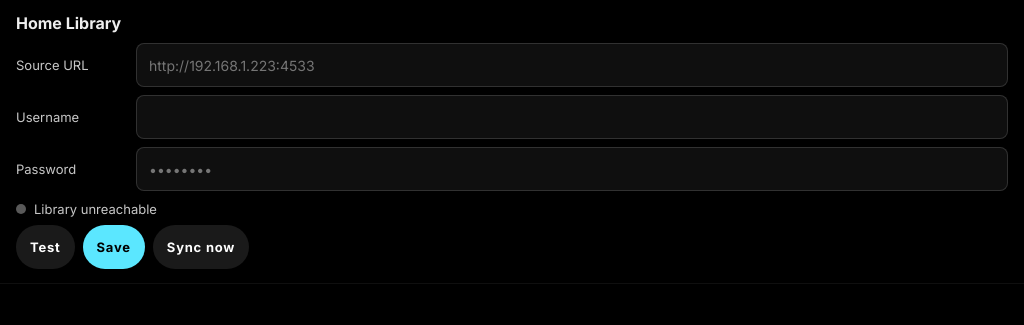
it: LibraryPanel › Test button surfaces backend error
Click the button "Test": (45, 247) x1=16 y1=225 x2=75 y2=269
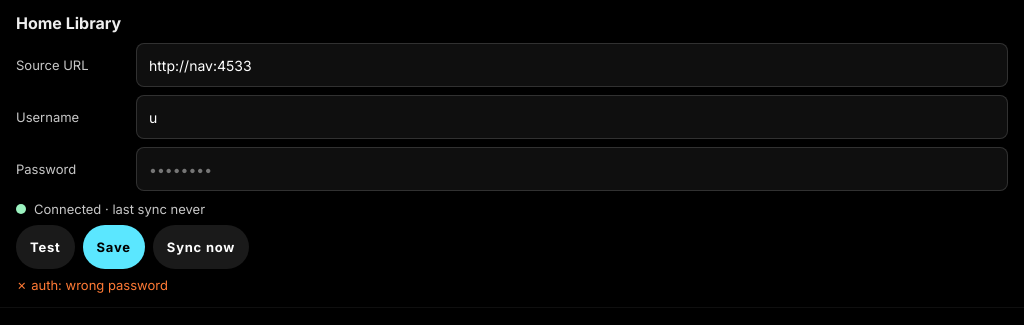
Now the text "✗ auth: wrong password" is shown, box x1=16 y1=277 x2=168 y2=293
